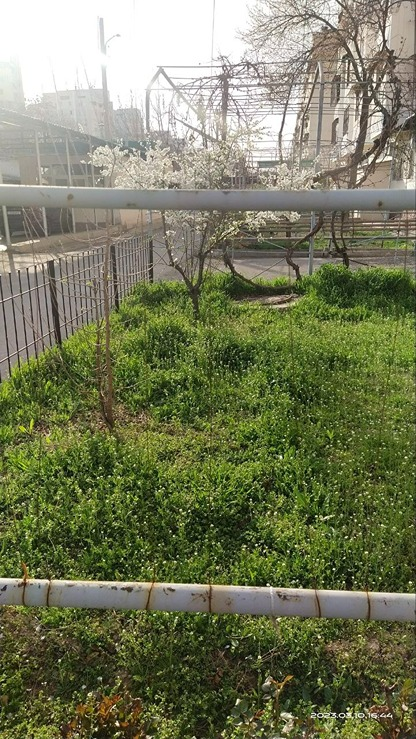tree: (149, 221, 236, 327)
